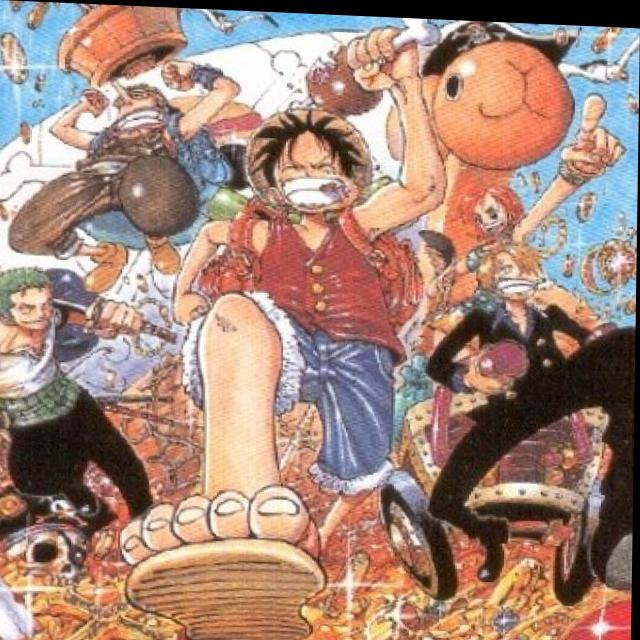Luffy: (243, 98, 377, 224)
Sangdi: (477, 223, 551, 305)
Zoro: (0, 260, 67, 345)
